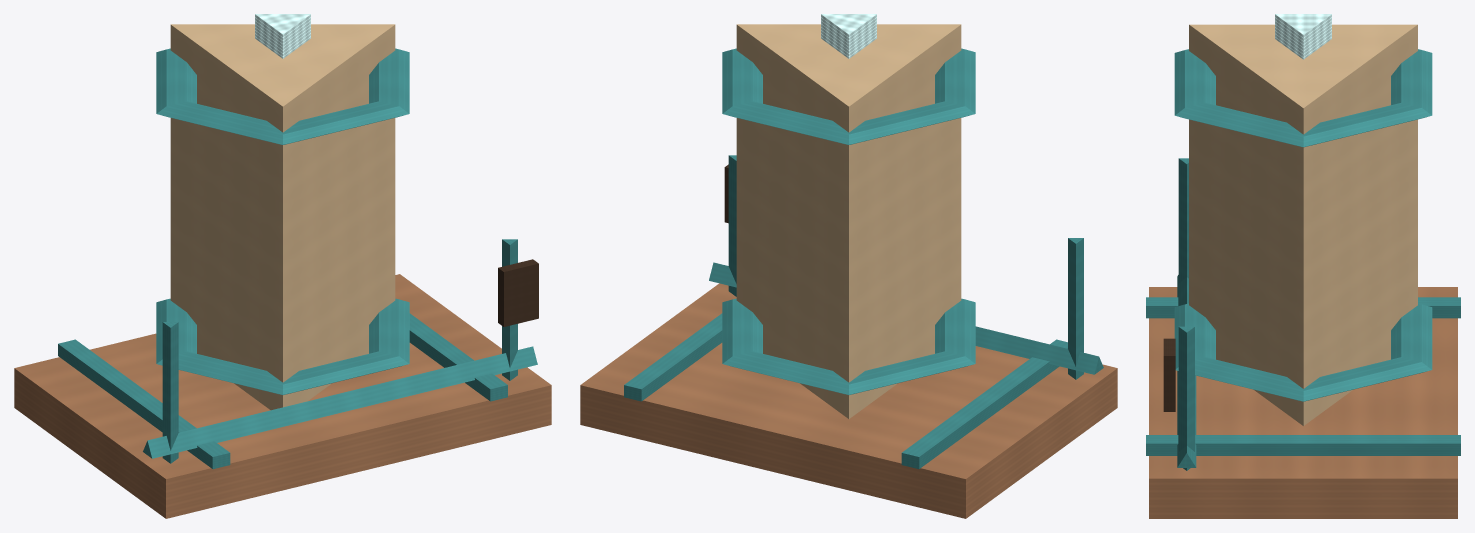
File: atlas100-s098-a06.lod2.glb
3 views of the same model, side by side, from view 1: azimuth 30°, elevation 25°; view 2: azimuth 150°, elevation 25°; view 3: azimuth 270°, elevation 25° (orthographic).
Parts seen in each view (by area): view 1: atlas100-s098-a06:part-003, atlas100-s098-a06:part-000, atlas100-s098-a06:part-005, atlas100-s098-a06:part-004, atlas100-s098-a06:part-012, atlas100-s098-a06:part-001, atlas100-s098-a06:part-011, atlas100-s098-a06:part-002, atlas100-s098-a06:part-008, atlas100-s098-a06:part-006, atlas100-s098-a06:part-010; view 2: atlas100-s098-a06:part-003, atlas100-s098-a06:part-000, atlas100-s098-a06:part-005, atlas100-s098-a06:part-004, atlas100-s098-a06:part-001, atlas100-s098-a06:part-012, atlas100-s098-a06:part-002, atlas100-s098-a06:part-008, atlas100-s098-a06:part-006, atlas100-s098-a06:part-010; view 3: atlas100-s098-a06:part-003, atlas100-s098-a06:part-000, atlas100-s098-a06:part-005, atlas100-s098-a06:part-004, atlas100-s098-a06:part-002, atlas100-s098-a06:part-010, atlas100-s098-a06:part-006, atlas100-s098-a06:part-001, atlas100-s098-a06:part-008, atlas100-s098-a06:part-012, atlas100-s098-a06:part-011.
Part boxes in pixels (x1,y1,x2,y2): atlas100-s098-a06:part-003: (170, 24, 395, 410); atlas100-s098-a06:part-000: (14, 274, 551, 518); atlas100-s098-a06:part-005: (156, 48, 409, 144); atlas100-s098-a06:part-004: (156, 298, 409, 394); atlas100-s098-a06:part-012: (143, 346, 537, 458); atlas100-s098-a06:part-001: (58, 339, 230, 469); atlas100-s098-a06:part-011: (498, 259, 538, 326); atlas100-s098-a06:part-002: (409, 313, 507, 401); atlas100-s098-a06:part-008: (162, 322, 178, 463); atlas100-s098-a06:part-006: (255, 14, 310, 58); atlas100-s098-a06:part-010: (502, 239, 517, 380); atlas100-s098-a06:part-003: (736, 24, 961, 418); atlas100-s098-a06:part-000: (580, 283, 1117, 518); atlas100-s098-a06:part-005: (722, 48, 975, 144); atlas100-s098-a06:part-004: (722, 298, 975, 394); atlas100-s098-a06:part-001: (901, 339, 1067, 469); atlas100-s098-a06:part-012: (709, 262, 1103, 374); atlas100-s098-a06:part-002: (624, 313, 722, 401); atlas100-s098-a06:part-008: (1068, 238, 1083, 379); atlas100-s098-a06:part-006: (821, 14, 876, 58); atlas100-s098-a06:part-010: (728, 155, 736, 296); atlas100-s098-a06:part-003: (1189, 24, 1417, 425); atlas100-s098-a06:part-000: (1149, 287, 1457, 518); atlas100-s098-a06:part-005: (1174, 49, 1432, 147); atlas100-s098-a06:part-004: (1174, 303, 1432, 401); atlas100-s098-a06:part-002: (1146, 435, 1460, 455); atlas100-s098-a06:part-010: (1178, 326, 1194, 470); atlas100-s098-a06:part-006: (1275, 14, 1331, 59); atlas100-s098-a06:part-001: (1146, 297, 1460, 318); atlas100-s098-a06:part-008: (1178, 158, 1188, 283); atlas100-s098-a06:part-012: (1177, 275, 1196, 467); atlas100-s098-a06:part-011: (1163, 338, 1175, 411).
Size of the model in its own units: 2.64 by 2.59 by 1.84.
5 materials, 5 textured.
